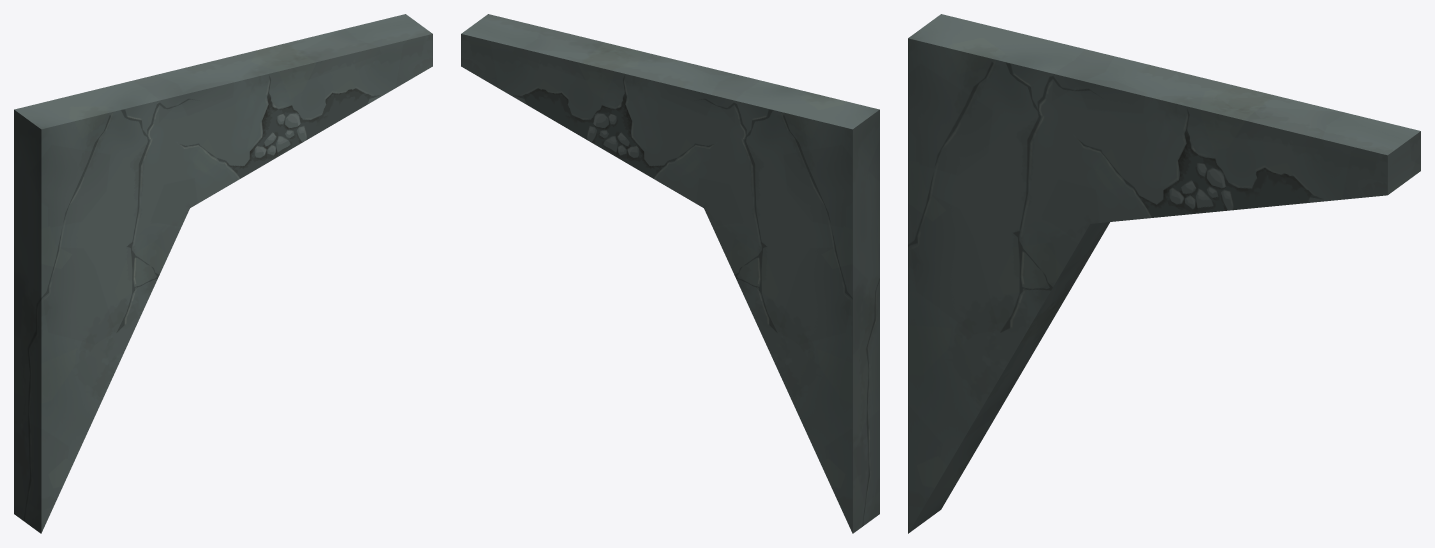
File: Dg_01_StoneObjects_12.FBX
The picture shows the model from 3 angles, left to right: view 1: azimuth 30°, elevation 25°; view 2: azimuth 150°, elevation 25°; view 3: azimuth 330°, elevation 25°; orthographic projection. The views are drawn at different scales.
Visible parts, largest first — view 1: Dg_01_StoneObjects_12; view 2: Dg_01_StoneObjects_12; view 3: Dg_01_StoneObjects_12.
Boxes of the visible parts, x1=… form: Dg_01_StoneObjects_12: x1=14, y1=14, x2=432, y2=533; Dg_01_StoneObjects_12: x1=461, y1=14, x2=879, y2=533; Dg_01_StoneObjects_12: x1=908, y1=14, x2=1420, y2=533.
Bounding box in the file's own units: 4.46 × 4.4 × 0.5346.
